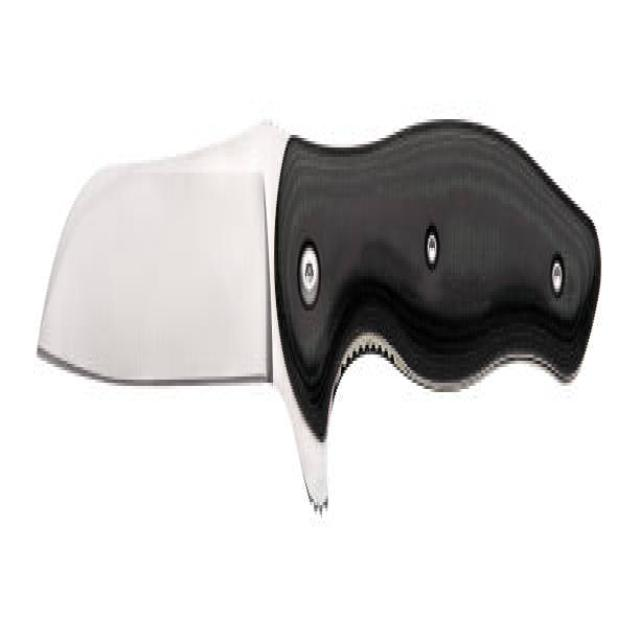knife: (35, 88, 604, 540)
